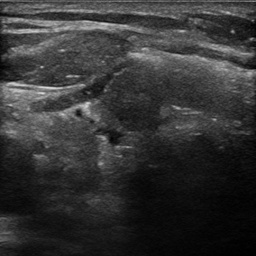mass: (108, 58, 163, 131)
